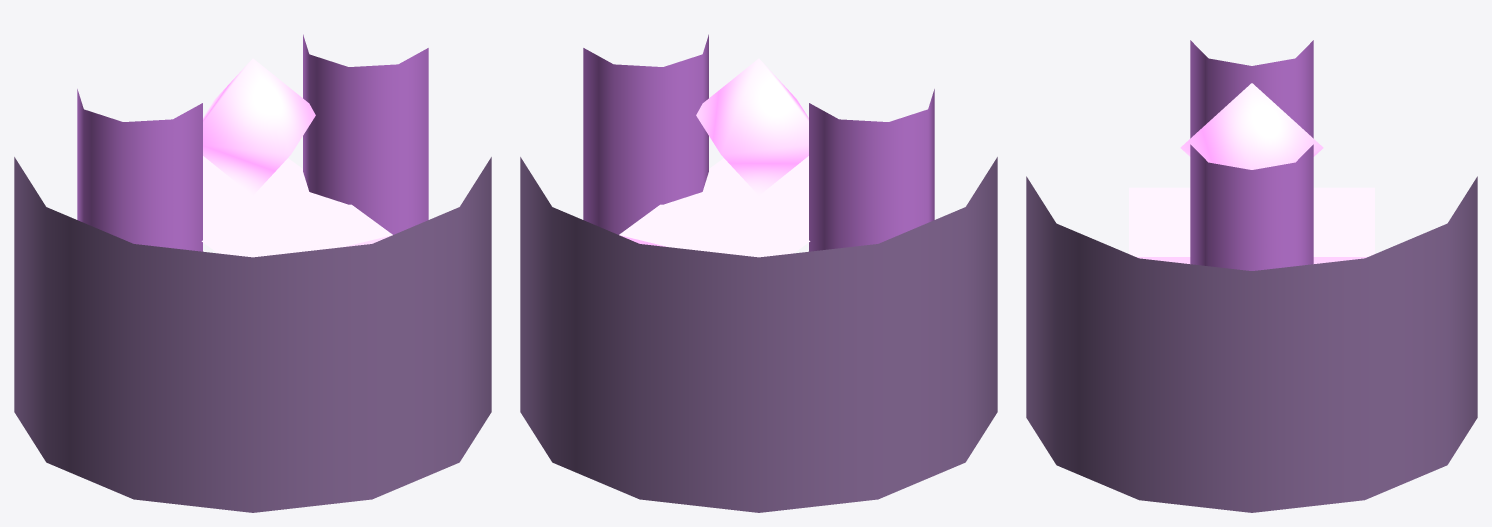
File: corazon_caldera.glb
The picture shows the model from 3 angles, left to right: view 1: azimuth 30°, elevation 25°; view 2: azimuth 150°, elevation 25°; view 3: azimuth 270°, elevation 25°; orthographic projection. The views are drawn at different scales.
Visible parts, largest first — view 1: Base, Accent, Glow; view 2: Base, Accent, Glow; view 3: Base, Accent, Glow.
Part boxes in pixels (x1=…): Base: x1=14, y1=157, x2=491, y2=512; Accent: x1=77, y1=34, x2=428, y2=251; Glow: x1=201, y1=58, x2=392, y2=257; Base: x1=520, y1=157, x2=997, y2=512; Accent: x1=583, y1=34, x2=934, y2=251; Glow: x1=619, y1=58, x2=810, y2=257; Base: x1=1026, y1=176, x2=1477, y2=512; Accent: x1=1190, y1=40, x2=1313, y2=270; Glow: x1=1129, y1=83, x2=1374, y2=263.
Bounding box in the file's own units: 0.44 × 0.36 × 0.44.
